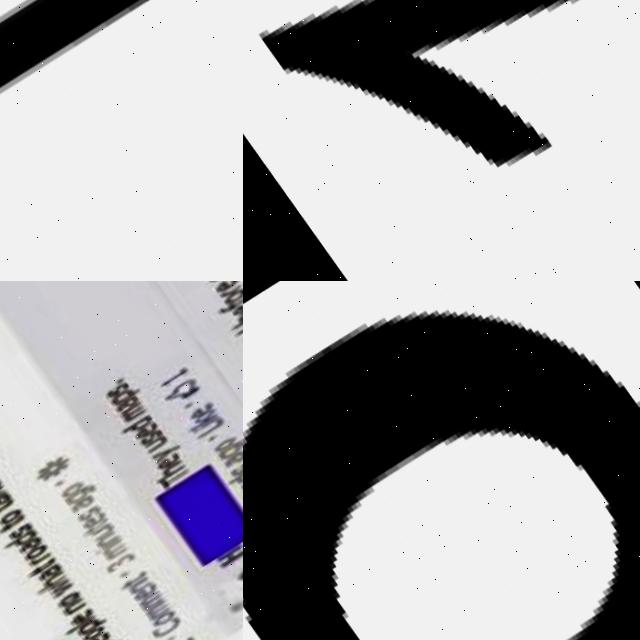1: (243, 0, 640, 280), (0, 0, 243, 281), (152, 355, 187, 385)
3: (95, 542, 131, 573)
O: (243, 300, 640, 640)
